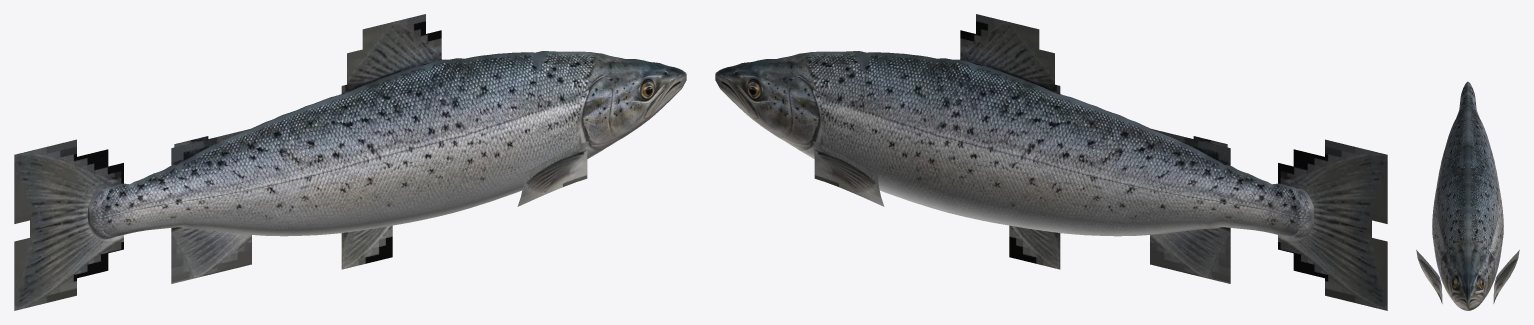
Rendered from real-salmo_salar.glb.
The picture shows the model from 3 angles, left to right: view 1: azimuth 30°, elevation 25°; view 2: azimuth 150°, elevation 25°; view 3: azimuth 270°, elevation 25°; orthographic projection. The views are drawn at different scales.
Parts seen in each view (by area): view 1: salmo_salar; view 2: salmo_salar; view 3: salmo_salar.
Boxes of the visible parts, box(x1,y1,x2,y2) form: salmo_salar: box(14, 14, 686, 310); salmo_salar: box(715, 14, 1387, 310); salmo_salar: box(1416, 81, 1519, 310).
Size of the model in its own units: 0.3806 by 0.1272 by 0.0726.
Materials: 1 (1 with a texture image).
